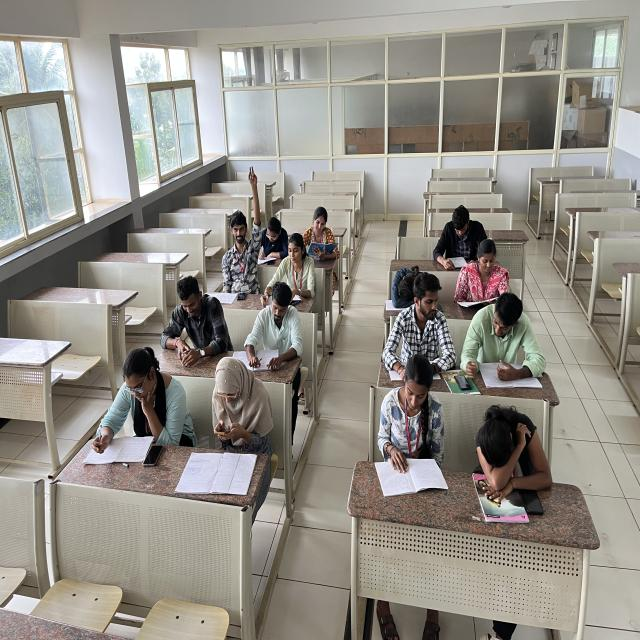Hand Rising: (212, 166, 261, 292)
Reading: (364, 350, 454, 499), (462, 297, 549, 389), (243, 282, 300, 373), (454, 242, 520, 311), (430, 200, 490, 270), (302, 204, 343, 262)
Sleeping: (458, 398, 563, 529), (380, 263, 428, 310)
Using Phone: (203, 358, 270, 462), (157, 276, 227, 358)
Writing: (82, 349, 170, 471), (258, 218, 288, 264)
